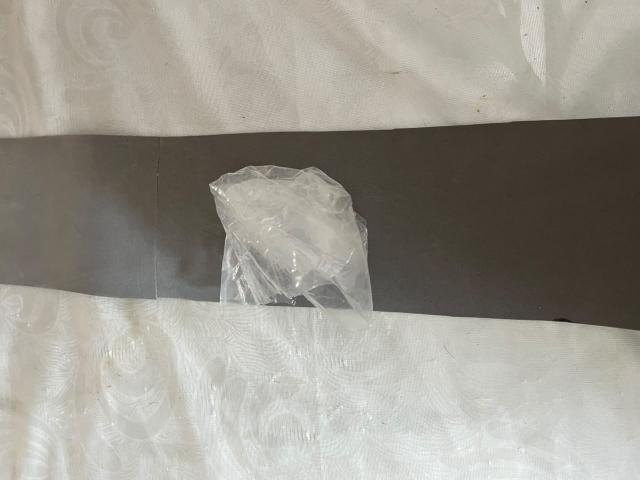LDPE: (192, 147, 399, 384)
